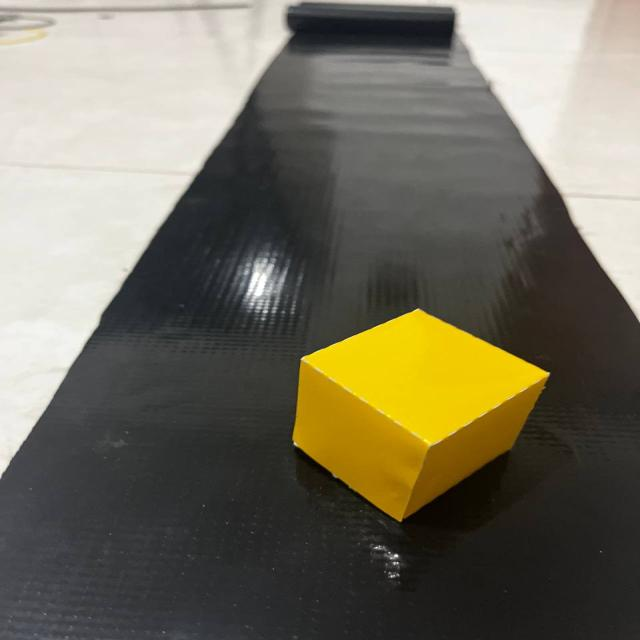Amarillo: (280, 296, 558, 540)
